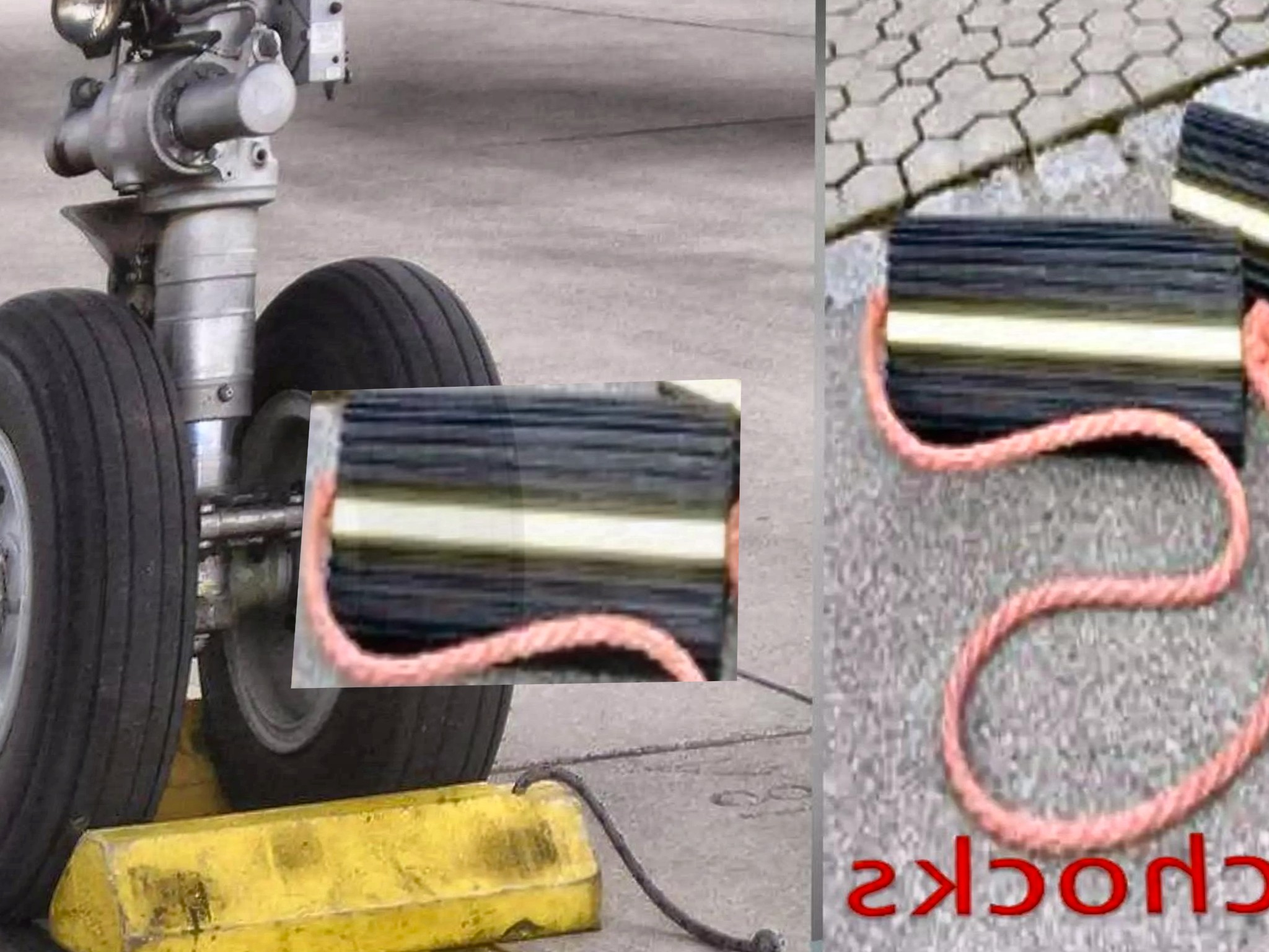chock: (291, 379, 741, 688), (33, 761, 614, 952), (860, 205, 1260, 474)
wheel: (190, 252, 542, 819), (0, 287, 220, 924)
